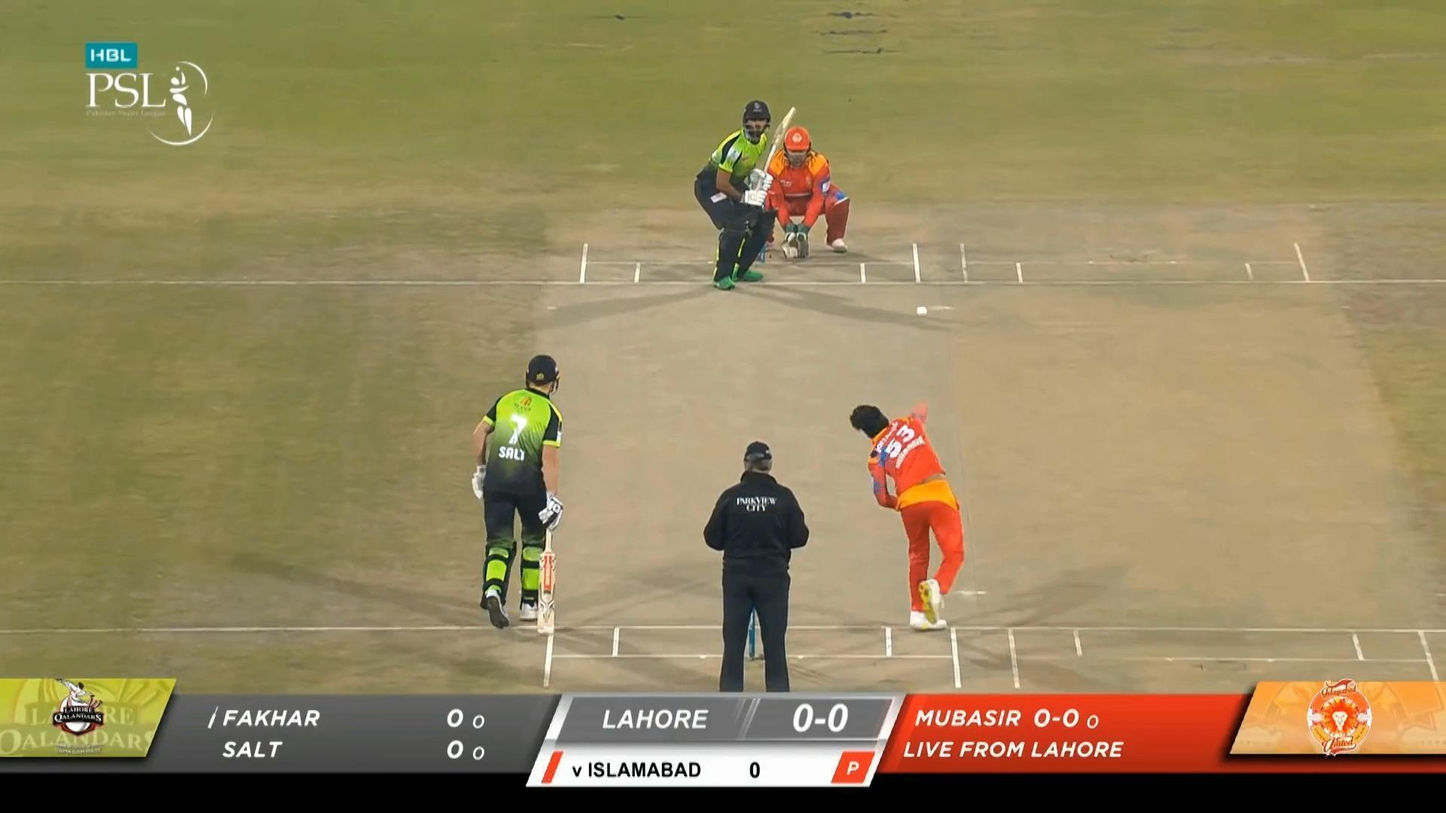BM 1: (693, 95, 799, 292)
BO: (849, 400, 965, 631)
